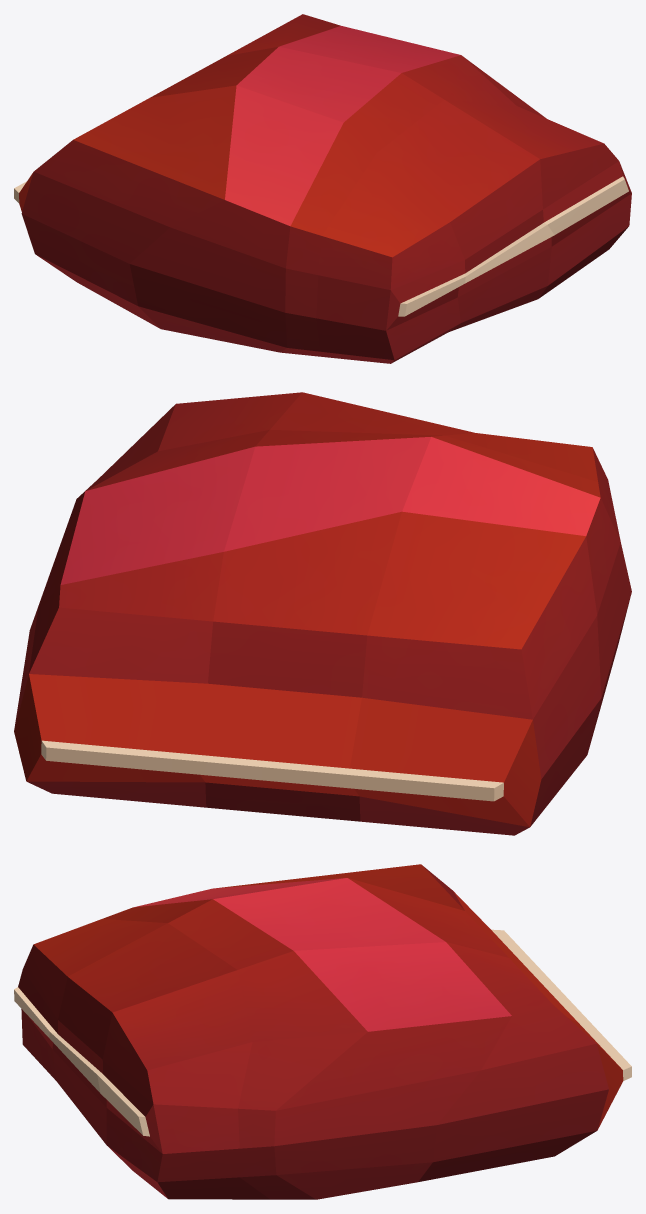
Rendered from Store_PottingSoil02.fbx.
3 renders of one model, top to bottom at view 1: azimuth 30°, elevation 25°; view 2: azimuth 150°, elevation 25°; view 3: azimuth 270°, elevation 25°, orthographic. The views are drawn at different scales.
Visible parts, largest first — view 1: PottingSoilDown; view 2: PottingSoilDown; view 3: PottingSoilDown.
Part boxes in pixels (x1,y1,x2,y2): PottingSoilDown: (14, 14, 631, 363); PottingSoilDown: (14, 392, 631, 835); PottingSoilDown: (14, 864, 631, 1199).
Size of the model in its own units: 39.52 by 17.28 by 43.67.
